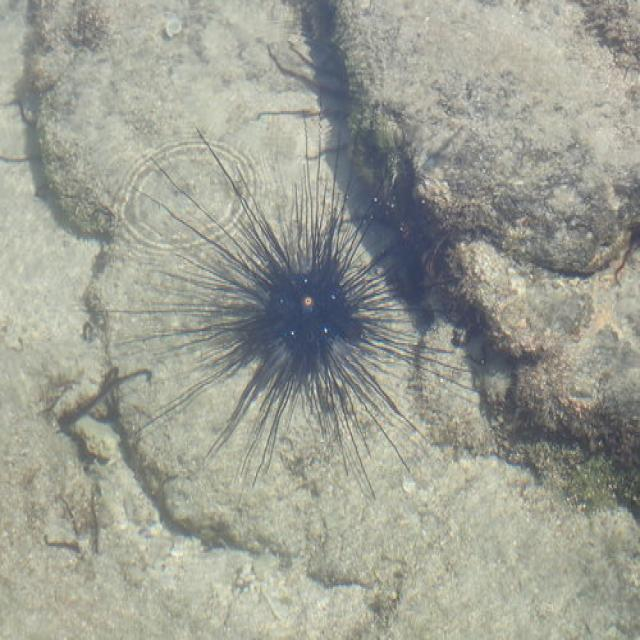Urchin: (129, 111, 443, 486)
